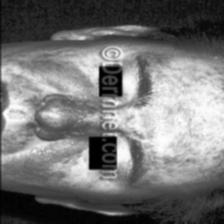Non-Cancerous Skin Condition: (12, 52, 92, 178), (145, 66, 224, 182)
